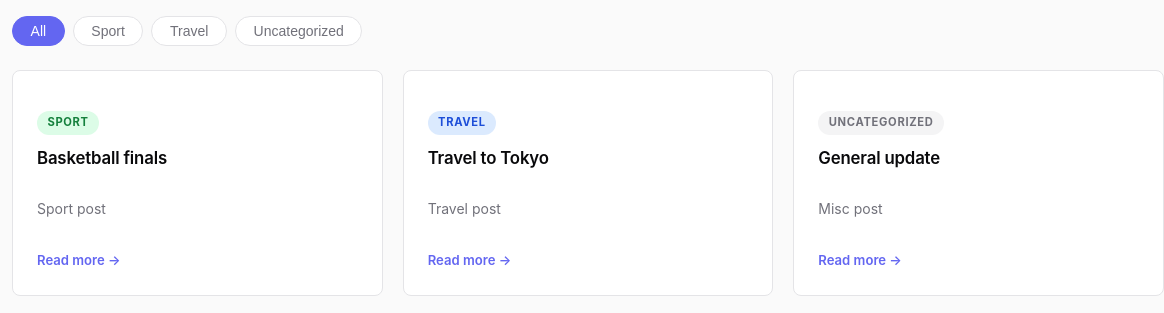
it: filters to Travel only
Click the button "Travel": (189, 31) [151, 16, 227, 46]
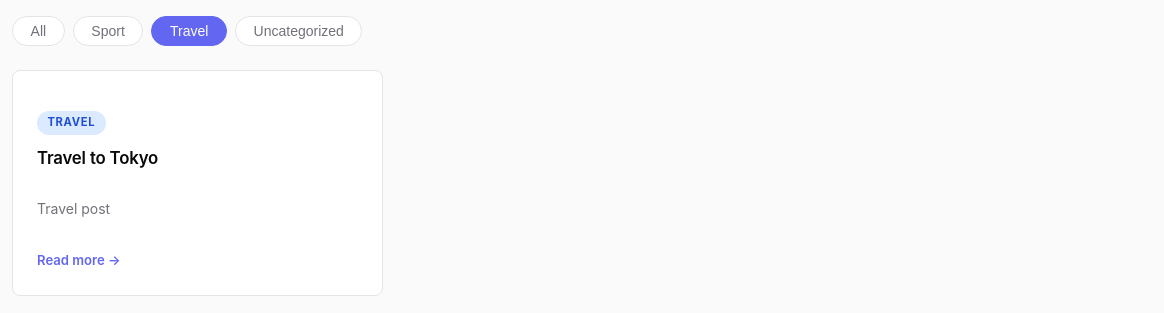
Expected: the link "Travel to Tokyo" is shown, [37, 148, 158, 168]
Result: the link "Basketball finals" is gone
